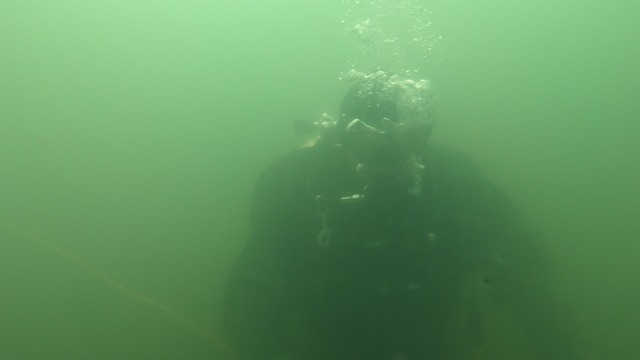Diver: (216, 41, 585, 352)
